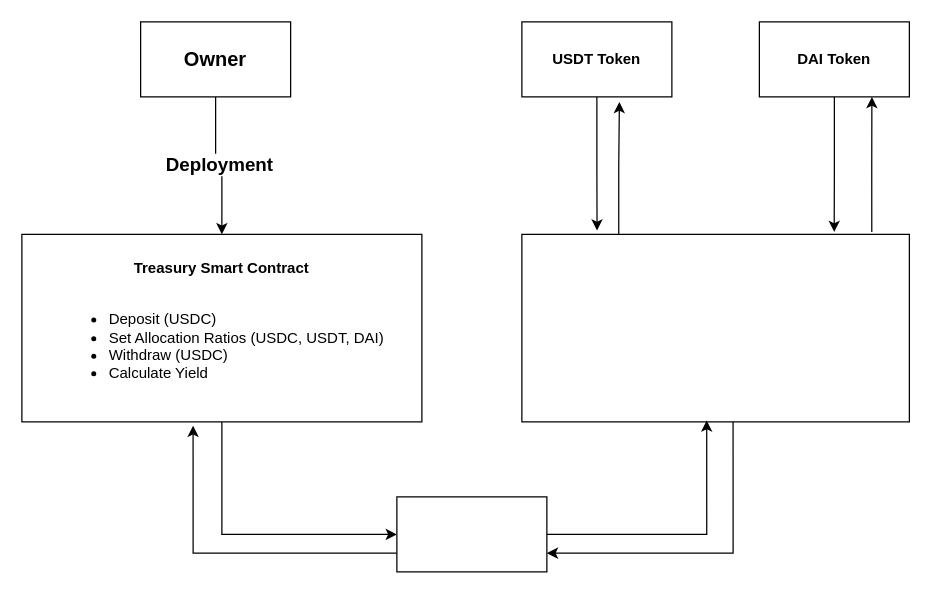
Image size: 931x594. Some labels were removed from this diagram. The centre of each missing label's shape, as x and y in pixels:
"UNISWAP" goes at [715,327].
"USDC Token" goes at [471,534].
